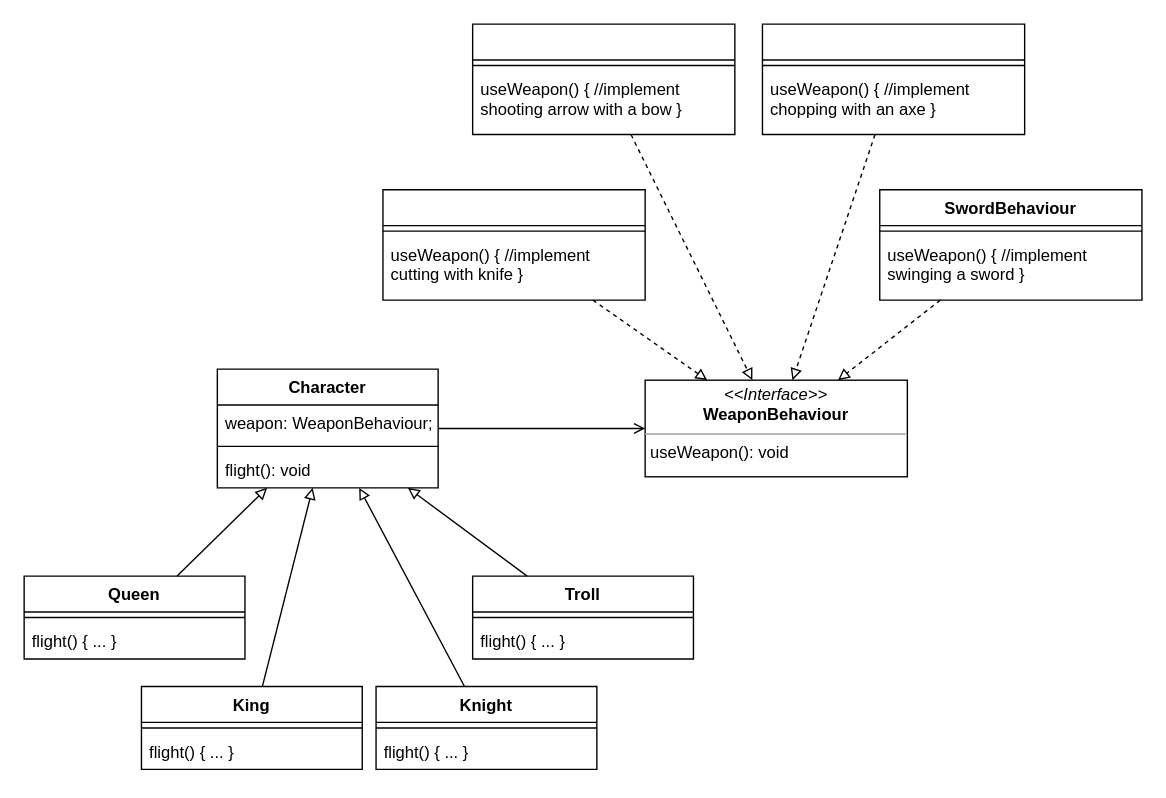
Some shapes in this 1166 by 798 pixel diagram are drawn without their labels. Here are the shapes that lost their labels. From the top down, the box of each, then its label:
(471, 23, 735, 135): BowAndArrowBehaviour
(761, 23, 1025, 135): AxeBehaviour
(382, 188, 645, 300): KnifeBehaviour
